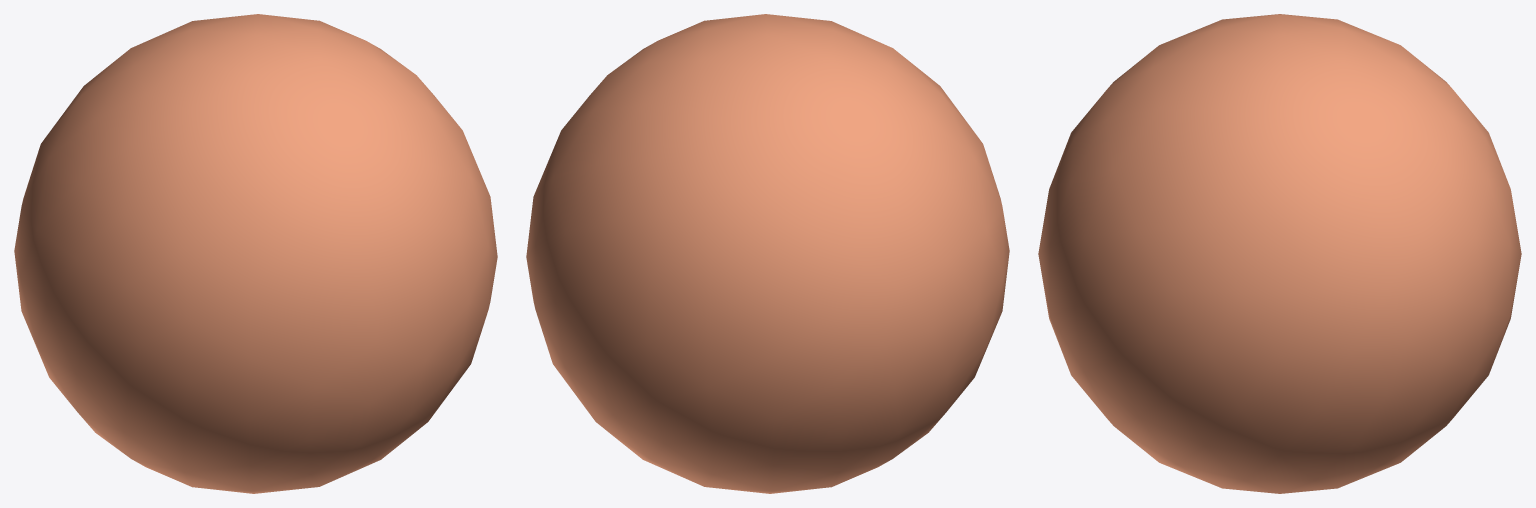
3 views of the same model, side by side, from view 1: azimuth 30°, elevation 25°; view 2: azimuth 150°, elevation 25°; view 3: azimuth 270°, elevation 25° (orthographic).
Parts seen in each view (by area): view 1: Sphere; view 2: Sphere; view 3: Sphere.
Part boxes in pixels (bbox=[...]): Sphere: bbox=[14, 14, 497, 493]; Sphere: bbox=[526, 14, 1009, 493]; Sphere: bbox=[1038, 14, 1521, 493].
Size of the model in its own units: 1 by 1 by 1.
